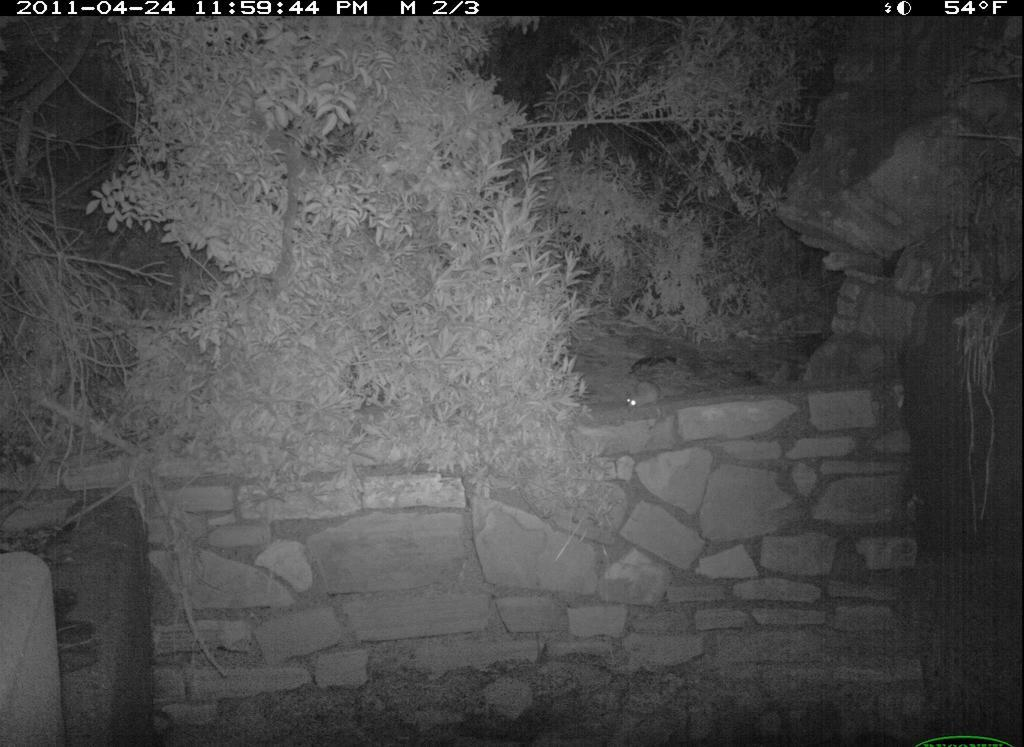rodent: (621, 365, 668, 430)
